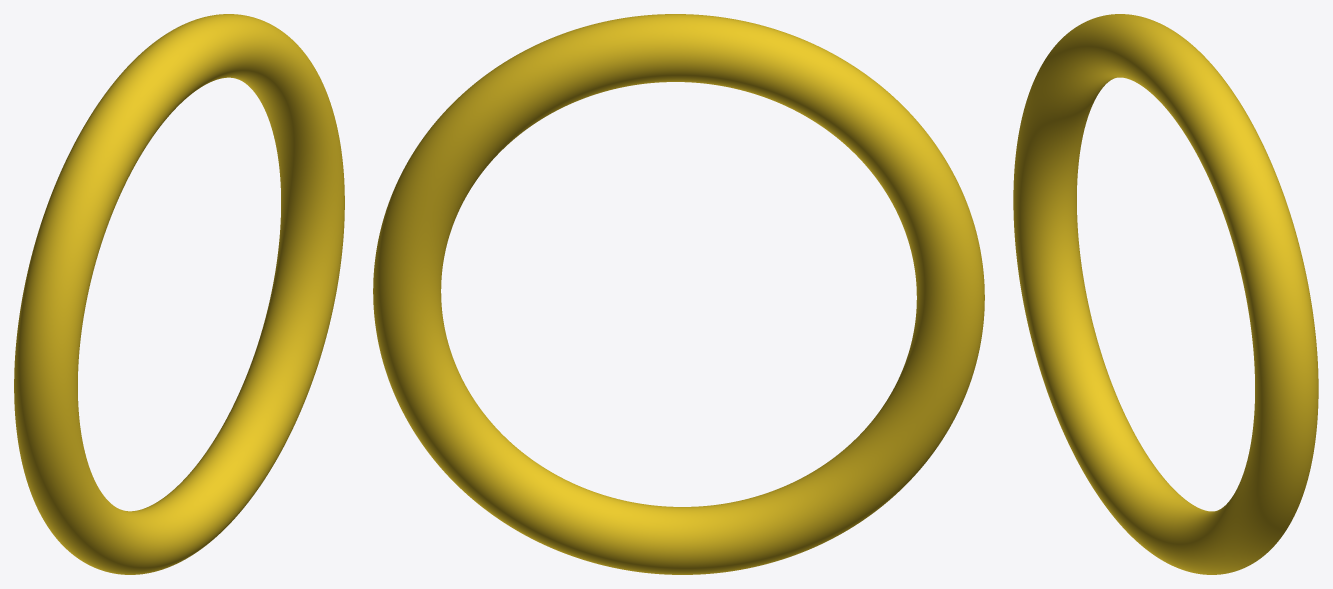
The model's file is sonic_ring_v_1.0.glb.
3 views of the same model, side by side, from view 1: azimuth 30°, elevation 25°; view 2: azimuth 150°, elevation 25°; view 3: azimuth 270°, elevation 25° (orthographic). The views are drawn at different scales.
Visible parts, largest first — view 1: Ring_0; view 2: Ring_0; view 3: Ring_0.
Part boxes in pixels (x1,y1,x2,y2): Ring_0: (14,14,344,574); Ring_0: (373,14,984,574); Ring_0: (1013,14,1318,574).
Size of the model in its own units: 4.04 by 4.52 by 2.42.
